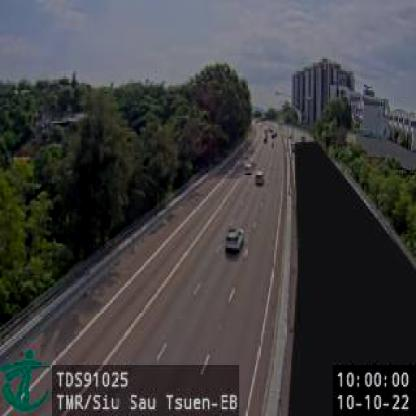Car: (224, 226, 244, 254), (255, 172, 266, 186)
